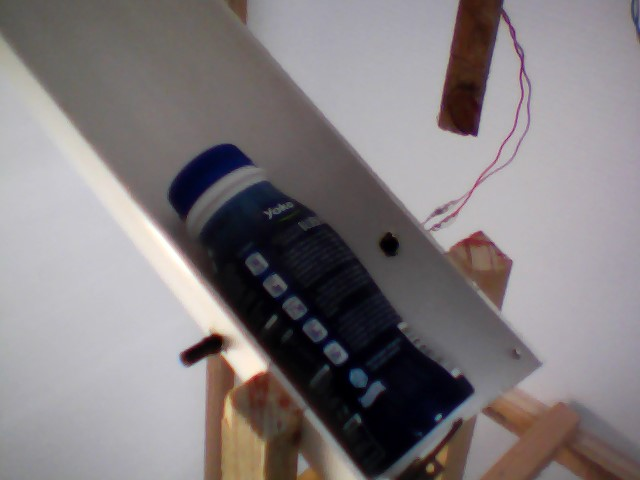plastico: (161, 145, 481, 480)
